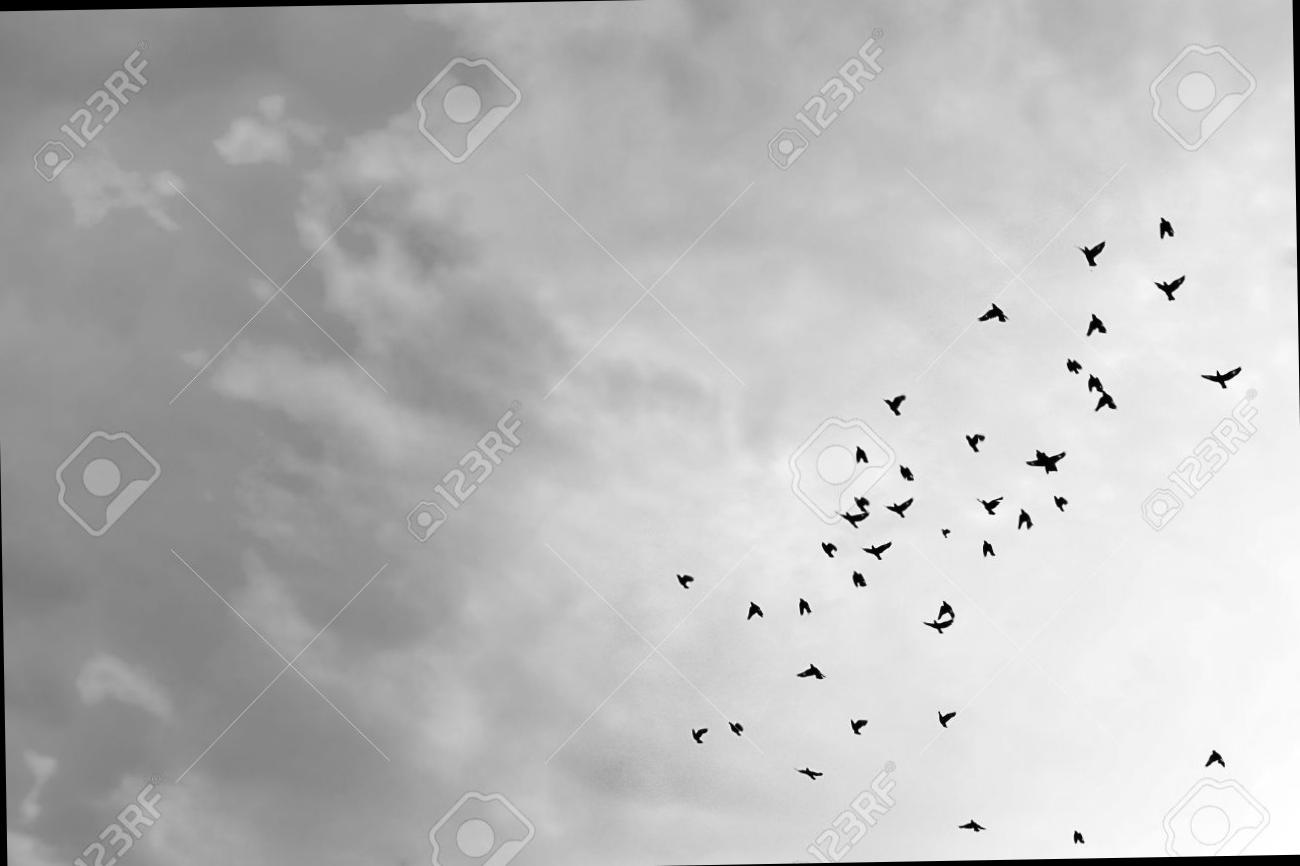bird: (1190, 354, 1248, 394), (1142, 268, 1194, 312), (1065, 228, 1110, 271), (1074, 302, 1118, 342), (968, 294, 1015, 328), (1024, 441, 1066, 474), (1150, 208, 1184, 246), (880, 494, 920, 521), (789, 658, 832, 683), (828, 509, 876, 529), (950, 812, 990, 836), (856, 539, 897, 562), (874, 390, 908, 417), (930, 703, 957, 736), (790, 758, 824, 784), (974, 491, 1008, 516), (668, 567, 698, 594), (918, 618, 960, 636), (843, 710, 870, 738), (1090, 389, 1120, 414), (960, 428, 990, 453), (720, 716, 750, 740), (685, 722, 710, 748), (741, 596, 765, 622), (933, 594, 957, 618), (1014, 504, 1034, 532), (1061, 352, 1084, 376), (976, 536, 999, 559), (817, 537, 838, 560), (894, 461, 916, 482), (1083, 370, 1103, 392), (1067, 824, 1087, 846), (1048, 493, 1072, 511), (794, 593, 811, 618), (852, 443, 870, 466), (848, 566, 866, 588), (850, 494, 870, 512), (935, 522, 951, 541)
